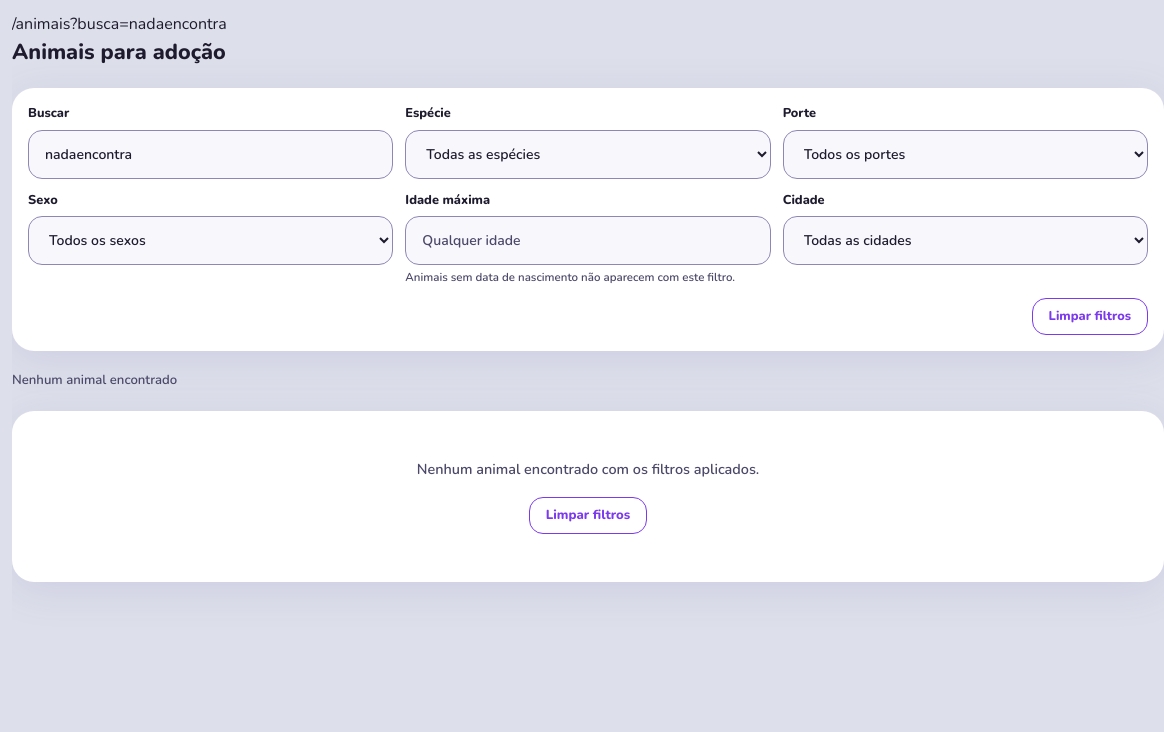
Test case: os cinco estados da grade — a ORDEM da decisão é a regra › CT-92: "Limpar filtros" do estado vazio faz a grade voltar a exibir os animais
The image size is (1164, 732).
Expected: the text "Nenhum animal encontrado com os filtros aplicados." is shown, [417, 459, 759, 480]
Click the 2nd button "Limpar filtros" at (588, 515), box [529, 496, 647, 534]
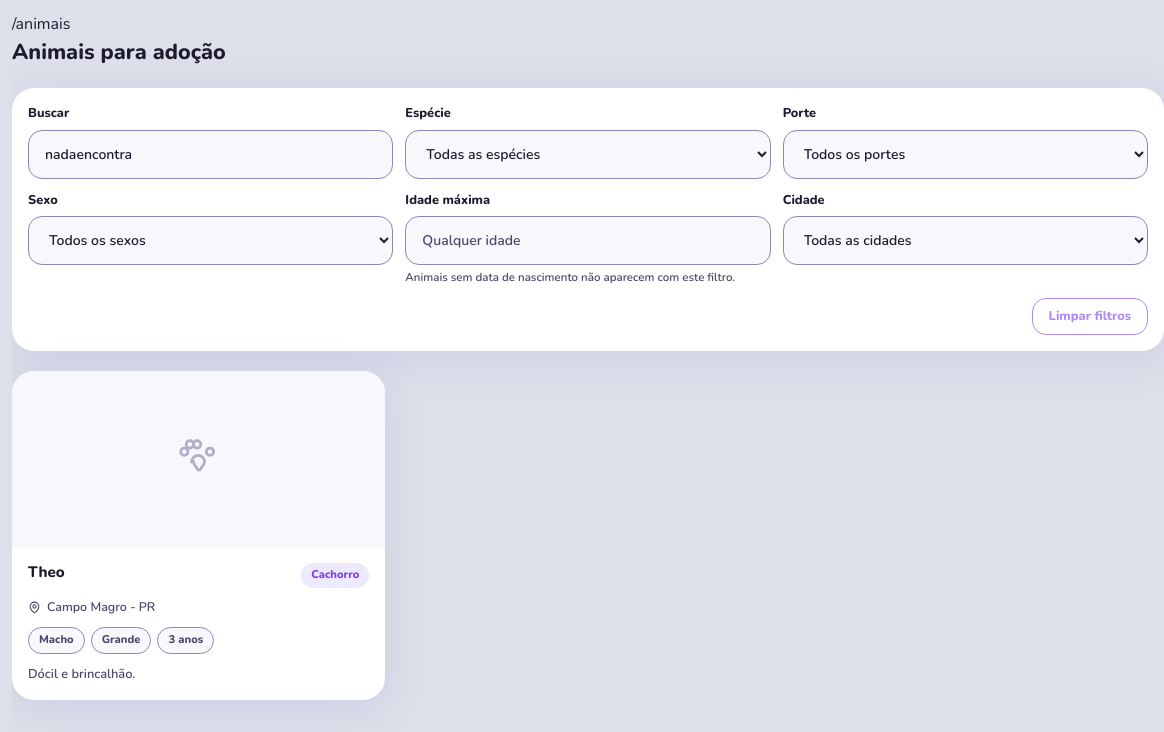
Result: the heading "Theo" is shown at [28, 563, 65, 582]
